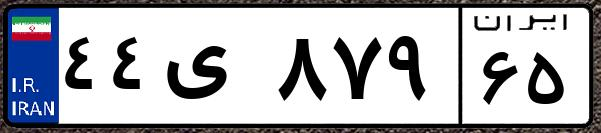4: (57, 26, 110, 100), (110, 28, 158, 98)
5: (525, 38, 570, 115)
6: (475, 38, 525, 113)
7: (330, 28, 385, 110)
8: (270, 28, 330, 110)
9: (385, 28, 445, 110)
ی: (158, 20, 270, 120)
